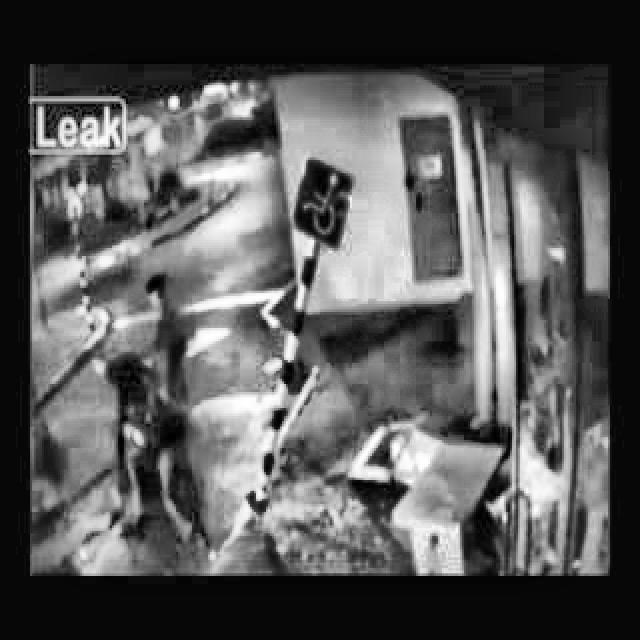burglary: (98, 266, 610, 574)
